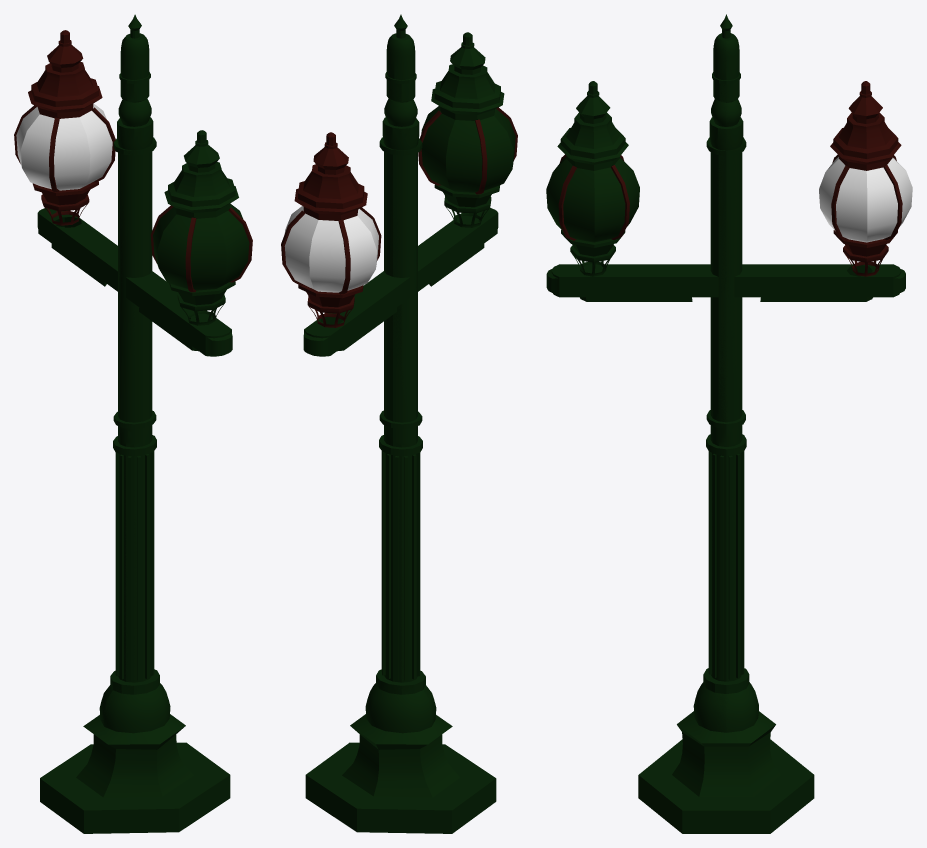
File: streetLamp.fbx
3 views of the same model, side by side, from view 1: azimuth 30°, elevation 25°; view 2: azimuth 150°, elevation 25°; view 3: azimuth 270°, elevation 25° (orthographic).
Visible parts, largest first — view 1: Circle, Circle.001, Circle.003, Circle.002; view 2: Circle.001, Circle, Circle.003, Circle.002; view 3: Circle, Circle.001, Circle.003, Circle.002.
Part boxes in pixels (x1,y1,x2,y2): Circle: (40,15,249,833); Circle.001: (37,15,232,833); Circle.003: (14,30,252,292); Circle.002: (16,103,112,190); Circle.001: (303,15,498,833); Circle: (305,14,515,833); Circle.003: (281,107,517,327); Circle.002: (284,206,378,292); Circle: (546,14,814,833); Circle.001: (546,15,905,833); Circle.003: (558,81,902,276); Circle.002: (819,157,912,242).
Bounding box in the file's own units: 193 × 989 × 419.
